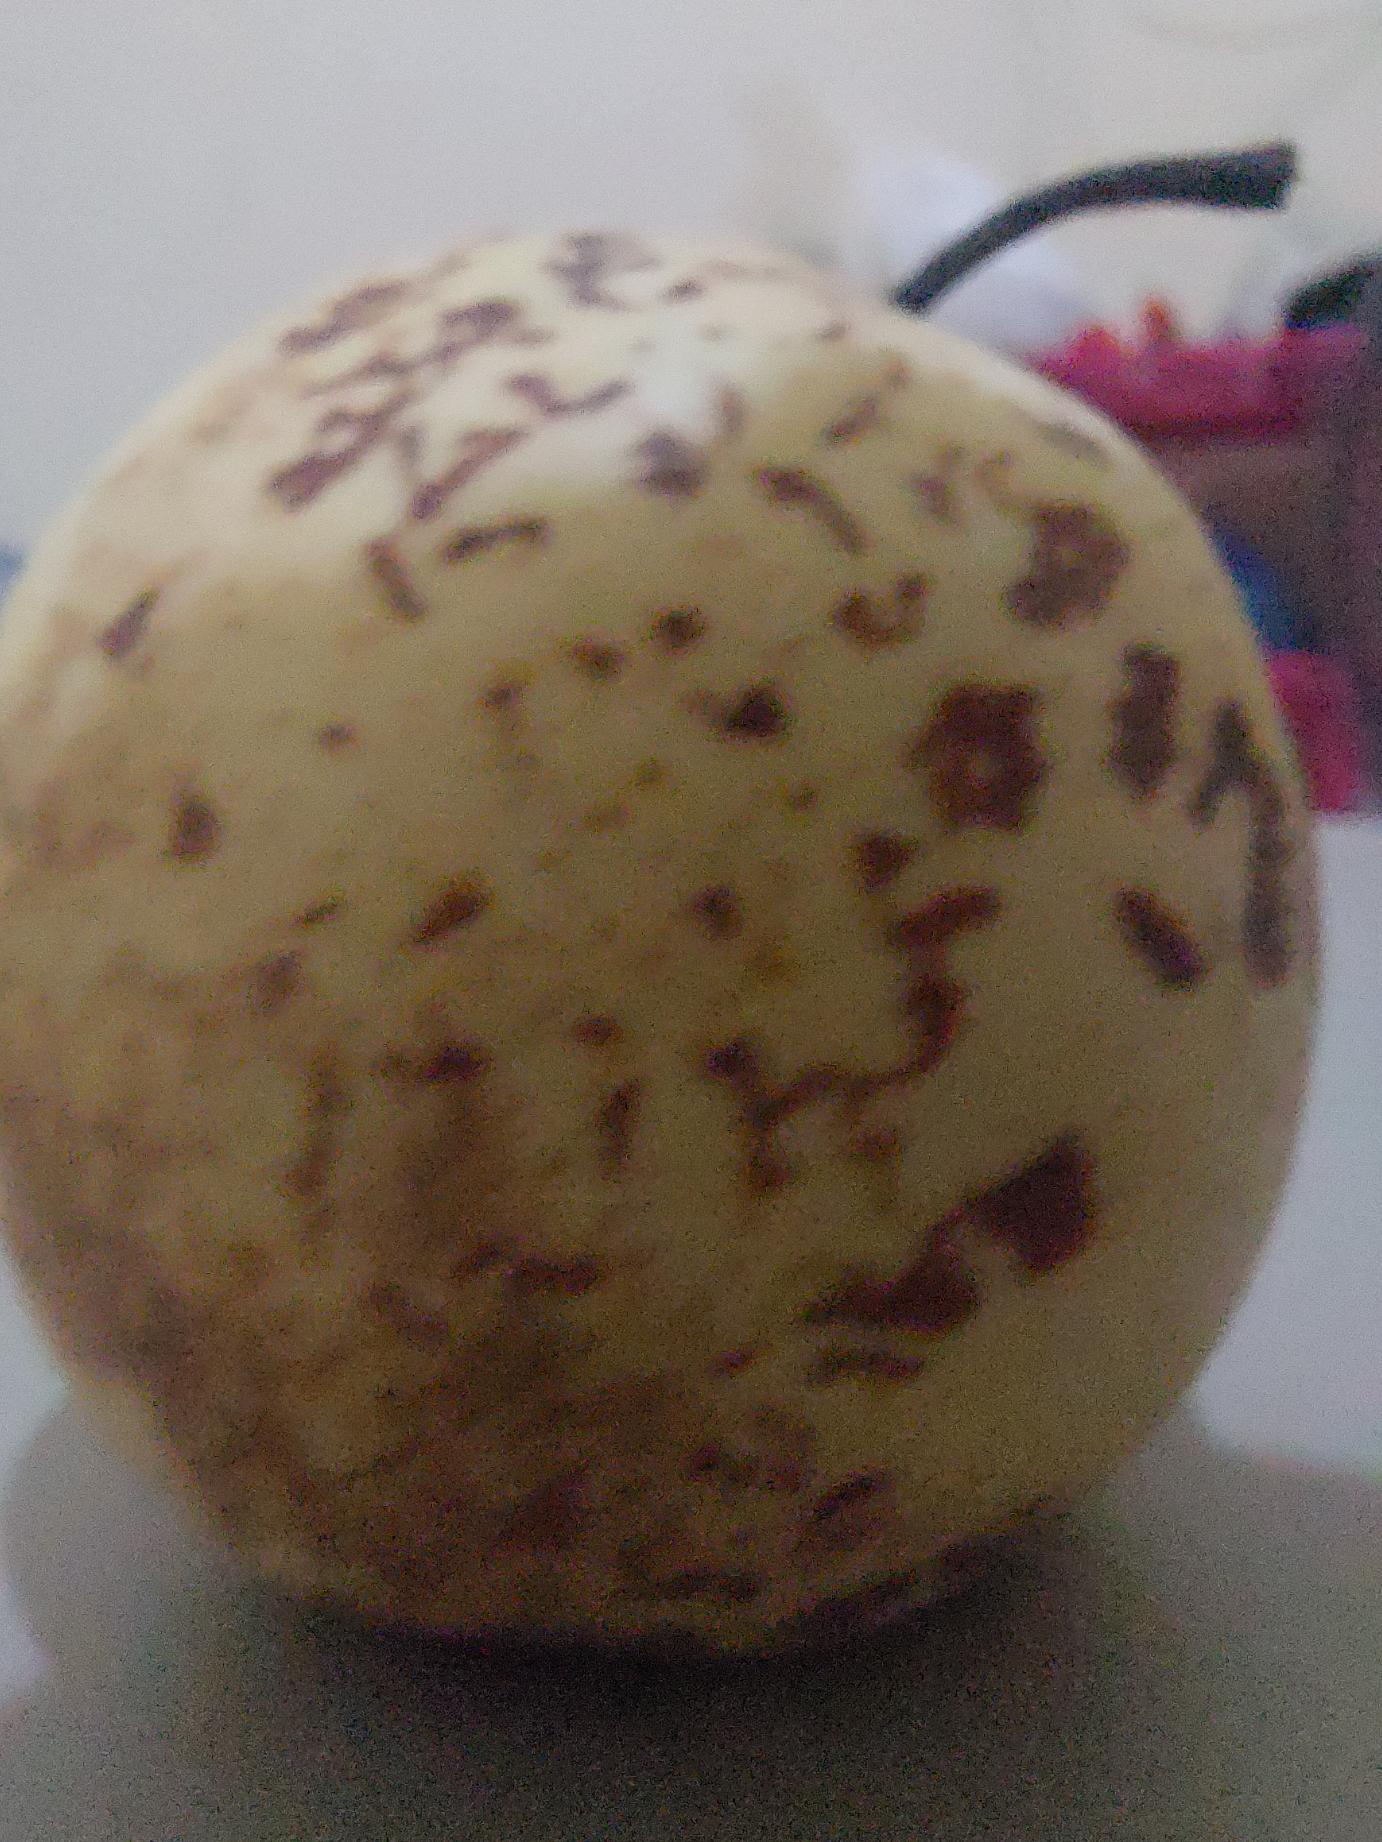Bad Pear: (0, 226, 1311, 1659)
